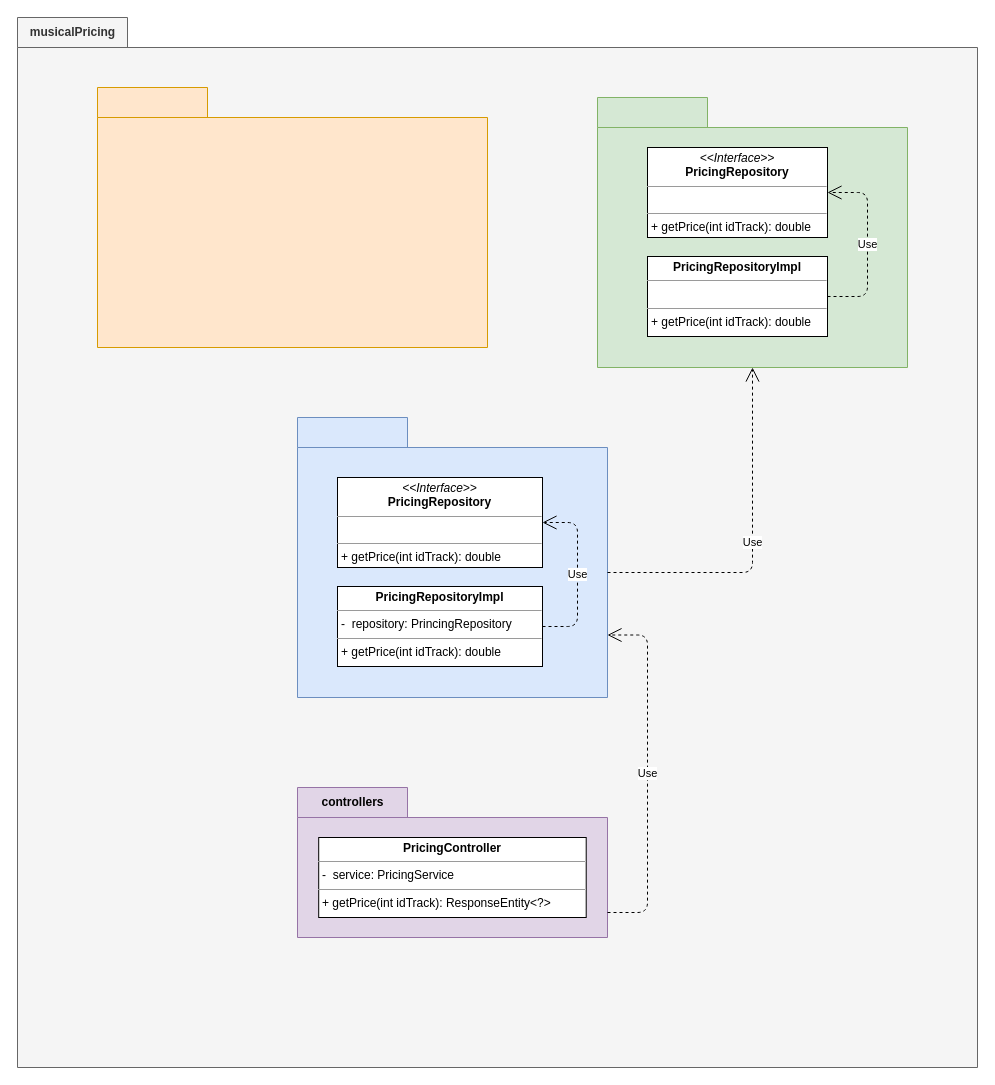
Image size: 995x1085. Some labels were removed from this diagram. Each missing label, with the box of its shape:
domain: (96, 86, 488, 348)
repositories: (596, 96, 908, 368)
services: (296, 416, 608, 698)
